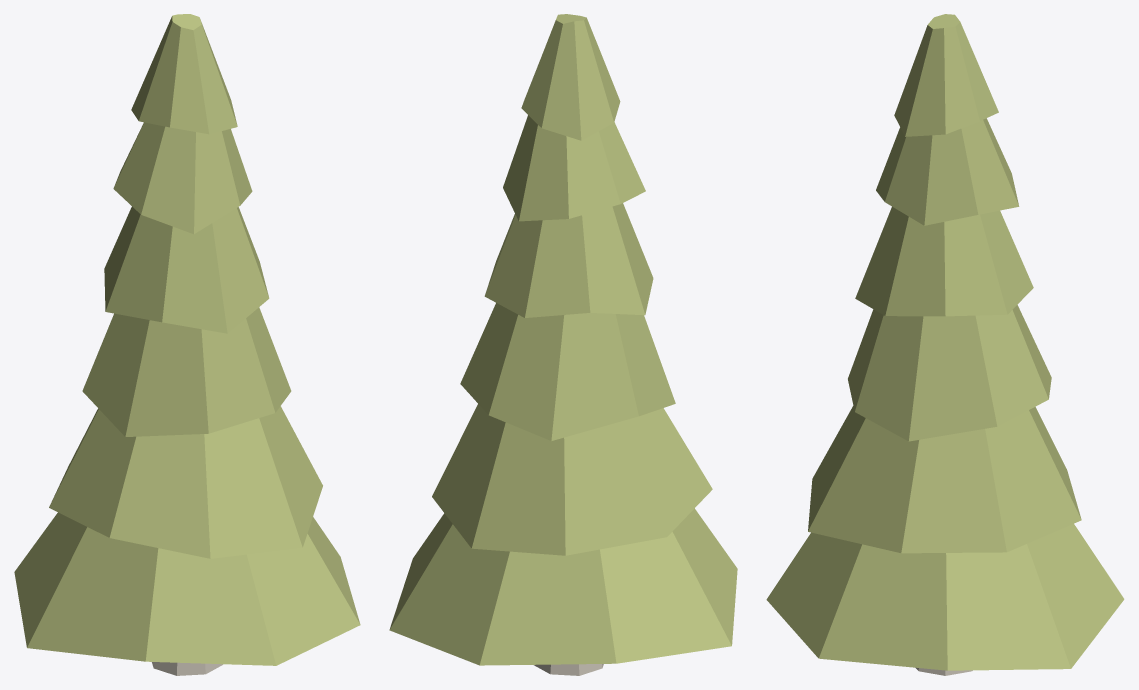
File: tree.fbx
3 views of the same model, side by side, from view 1: azimuth 30°, elevation 25°; view 2: azimuth 150°, elevation 25°; view 3: azimuth 270°, elevation 25° (orthographic).
Visible parts, largest first — view 1: Tree; view 2: Tree; view 3: Tree.
Part boxes in pixels (x1,y1,x2,y2): Tree: (14, 14, 360, 675); Tree: (389, 14, 737, 675); Tree: (766, 14, 1124, 675).
Size of the model in its own units: 434 by 845 by 428.
